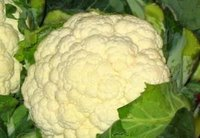cauliflower: (21, 11, 175, 137), (1, 19, 21, 96)
